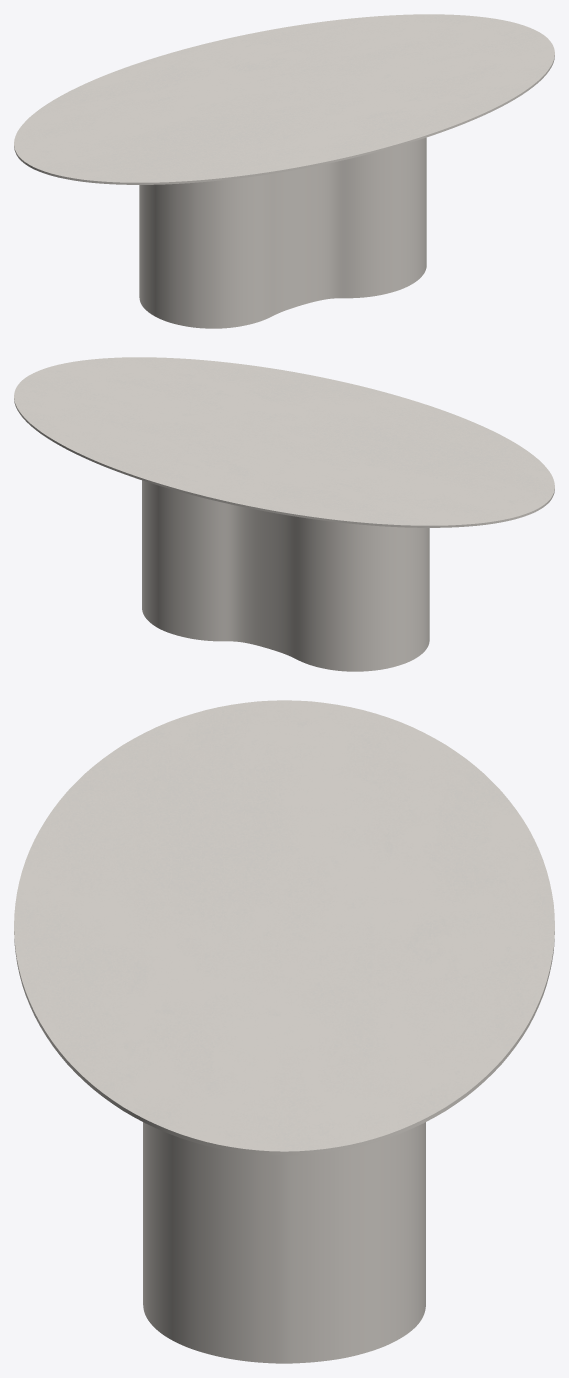
Rendered from pearlwhite_ellips_facet_riverwave.glb.
3 renders of one model, top to bottom at view 1: azimuth 30°, elevation 25°; view 2: azimuth 150°, elevation 25°; view 3: azimuth 270°, elevation 25°, orthographic. The views are drawn at different scales.
Parts seen in each view (by area): view 1: facet_ellips, riverwave; view 2: facet_ellips, riverwave; view 3: facet_ellips, riverwave.
Boxes of the visible parts, <box> form: facet_ellips: <box>14,14,554,184</box>; riverwave: <box>139,137,426,328</box>; facet_ellips: <box>14,357,554,527</box>; riverwave: <box>142,480,429,671</box>; facet_ellips: <box>14,700,554,1155</box>; riverwave: <box>143,1122,425,1363</box>.
Bounding box in the file's own units: 7.5 × 2.51 × 3.8.
Materials: 1 (1 with a texture image).
